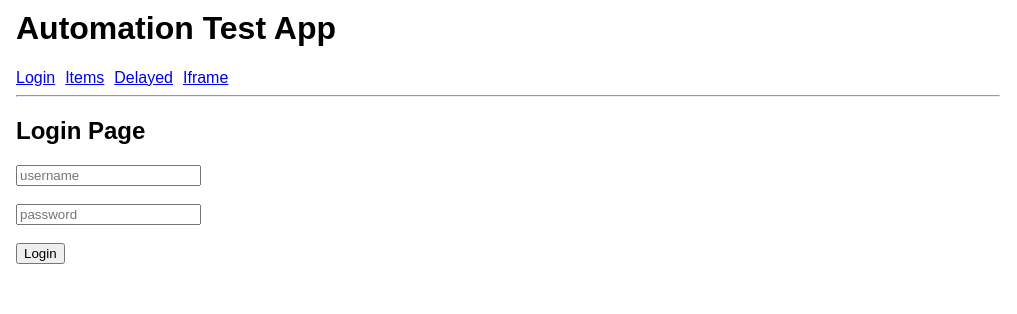
Test case: Test-App Login › logs in with correct credentials
The width and height of the screenshot is (1017, 314).
Type "tomsmith" into the field with placeholder "username" at (109, 176), box x1=16 y1=165 x2=201 y2=186
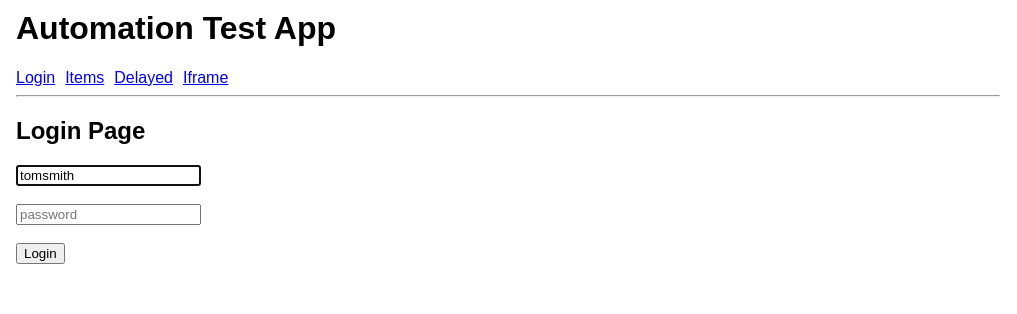
Type "SuperSecretPassword!" into the password field with placeholder "password" at (109, 215), box x1=16 y1=204 x2=201 y2=225
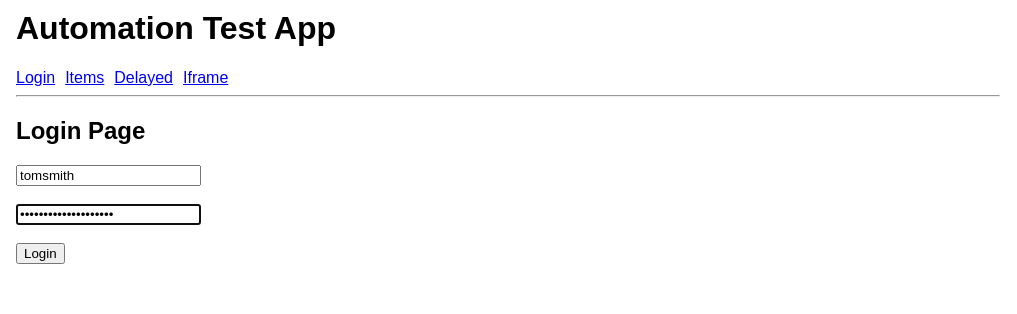
Click the submit button at (41, 254), box x1=16 y1=243 x2=65 y2=264
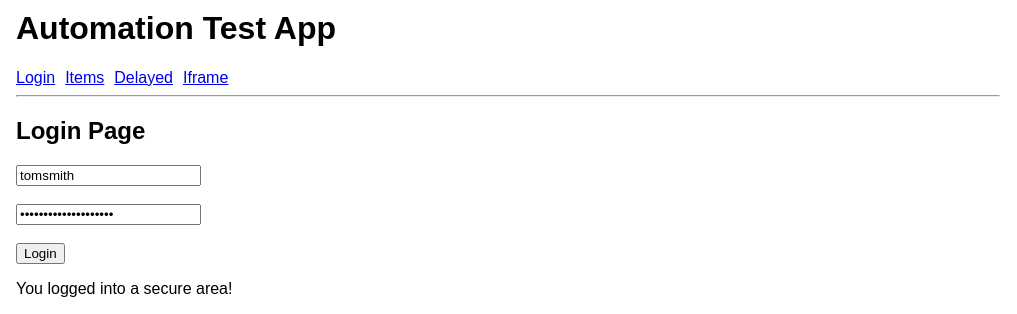
Result: the text "You logged into a secure area!" is shown at x1=16 y1=280 x2=232 y2=297
